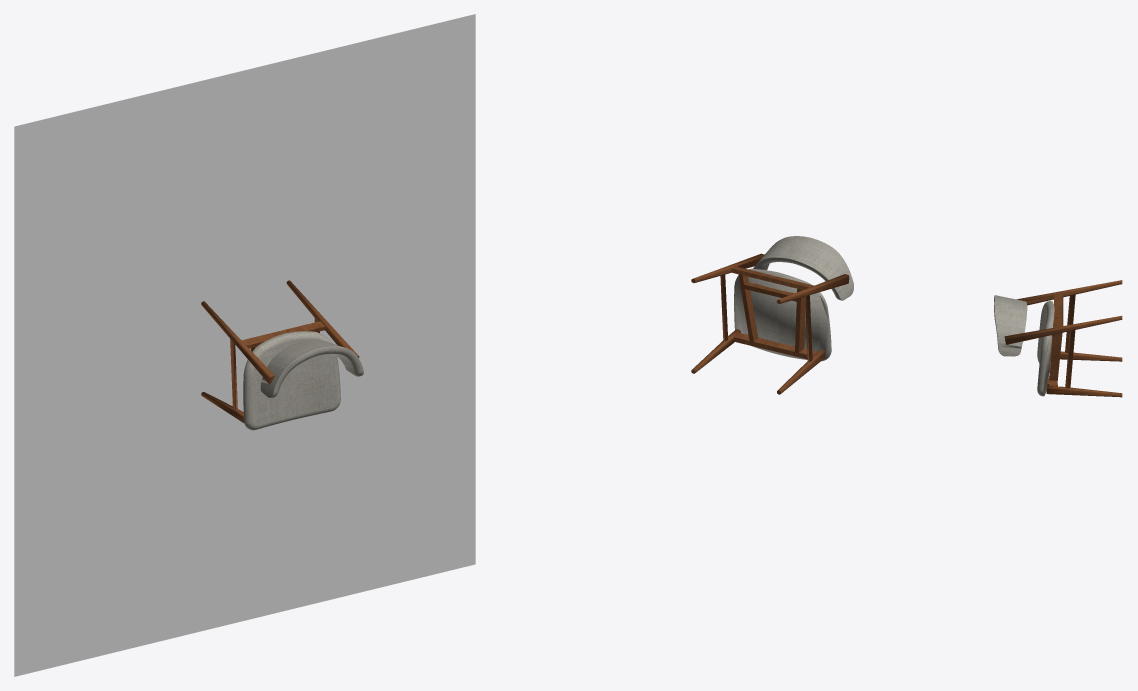
3 renders of one model, left to right at view 1: azimuth 30°, elevation 25°; view 2: azimuth 150°, elevation 25°; view 3: azimuth 270°, elevation 25°, orthographic. The views are drawn at different scales.
Visible parts, largest first — view 1: Plane, C-ACENTO CAD.STL, C-ESTRUTURA CAD.STL, C-ENCOSTO CAD.STL; view 2: C-ESTRUTURA CAD.STL, C-ACENTO CAD.STL, C-ENCOSTO CAD.STL; view 3: C-ESTRUTURA CAD.STL, C-ENCOSTO CAD.STL, C-ACENTO CAD.STL.
Boxes of the visible parts, <box> form: Plane: <box>14,14,475,676</box>; C-ACENTO CAD.STL: <box>243,331,340,430</box>; C-ESTRUTURA CAD.STL: <box>201,280,359,422</box>; C-ENCOSTO CAD.STL: <box>260,340,363,397</box>; C-ESTRUTURA CAD.STL: <box>691,253,849,394</box>; C-ACENTO CAD.STL: <box>734,268,831,361</box>; C-ENCOSTO CAD.STL: <box>753,236,853,300</box>; C-ESTRUTURA CAD.STL: <box>1004,280,1122,397</box>; C-ENCOSTO CAD.STL: <box>994,295,1027,356</box>; C-ACENTO CAD.STL: <box>1037,301,1054,396</box>.
Bounding box in the file's own units: 2.6 × 2.96 × 0.742.
2 materials, 2 textured.
